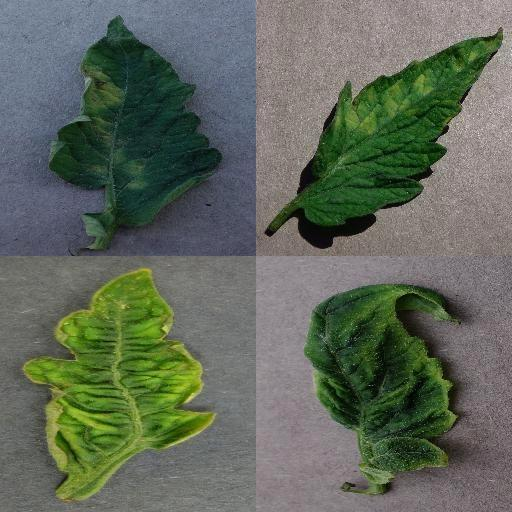Leaf Mold: (301, 26, 503, 228), (51, 14, 224, 228)
Yellow Leaf Curl Virus: (24, 266, 218, 476), (301, 283, 457, 483)
